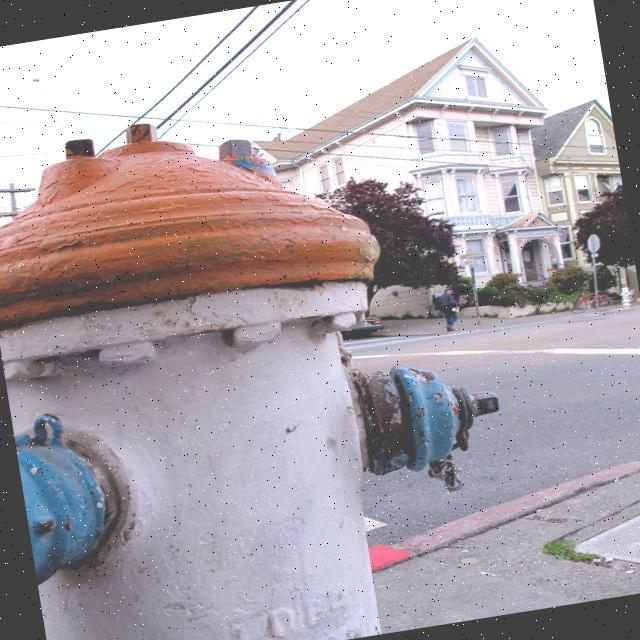fire_hydrant: (0, 78, 534, 640), (618, 287, 635, 309)
